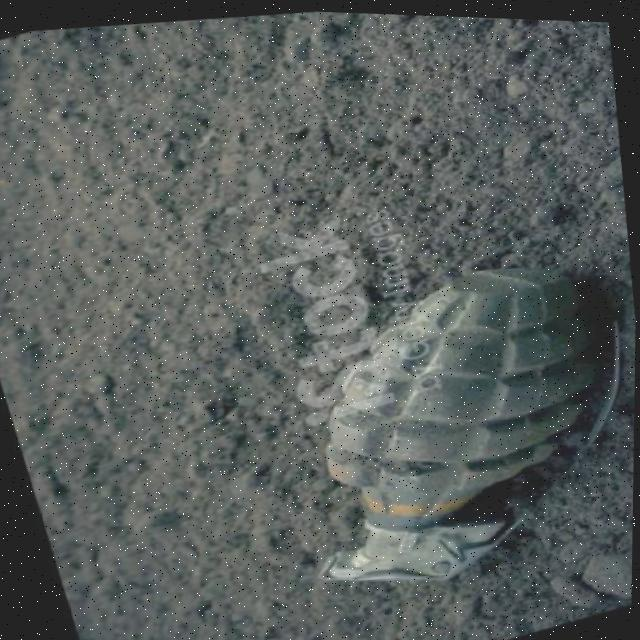grenade: (235, 213, 638, 628)
